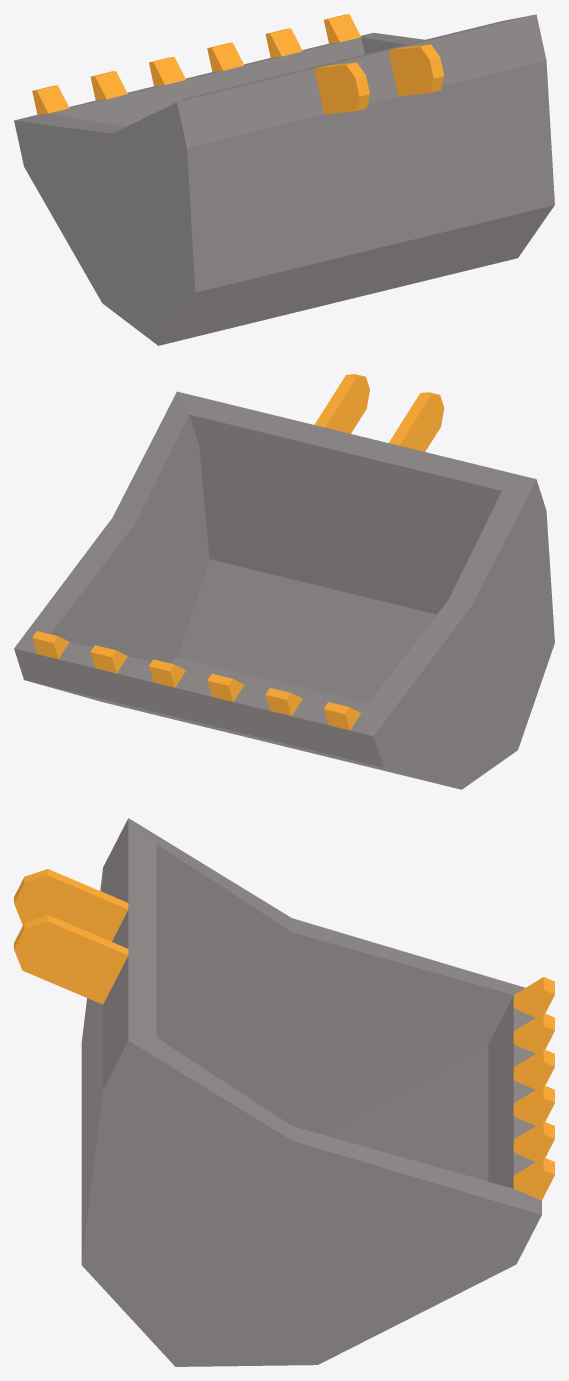
File: excavator-bucket.glb
The picture shows the model from 3 angles, top to bottom: view 1: azimuth 30°, elevation 25°; view 2: azimuth 150°, elevation 25°; view 3: azimuth 270°, elevation 25°; orthographic projection. The views are drawn at different scales.
Visible parts, largest first — view 1: excavator-bucket; view 2: excavator-bucket; view 3: excavator-bucket.
Boxes of the visible parts, x1,y1,x2,y2 form: excavator-bucket: (14,14,554,345); excavator-bucket: (14,374,554,789); excavator-bucket: (14,818,554,1366).
Size of the model in its own units: 1.7 by 1.28 by 1.74.
1 material, 1 textured.
